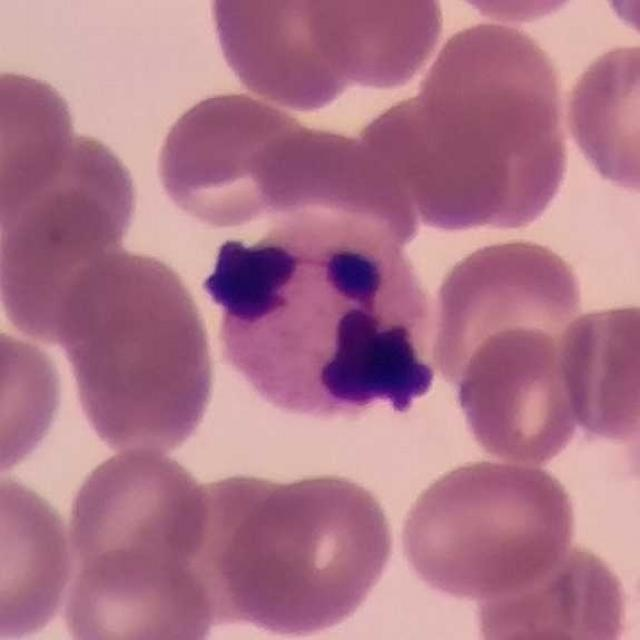Neutrophil: (202, 224, 438, 420)
RBC: (55, 242, 222, 458), (381, 79, 572, 235), (404, 450, 593, 599), (425, 234, 590, 400), (238, 124, 420, 270), (150, 87, 318, 231), (226, 479, 388, 626), (1, 186, 140, 347), (413, 17, 570, 158), (62, 443, 215, 587), (452, 322, 589, 468), (0, 124, 142, 262), (175, 474, 312, 614), (201, 0, 372, 112), (472, 540, 640, 640), (57, 542, 217, 640), (0, 469, 79, 640), (299, 0, 447, 91), (560, 37, 640, 198), (553, 298, 640, 446), (0, 61, 79, 223), (0, 326, 69, 481), (436, 0, 597, 27), (593, 0, 640, 48)
